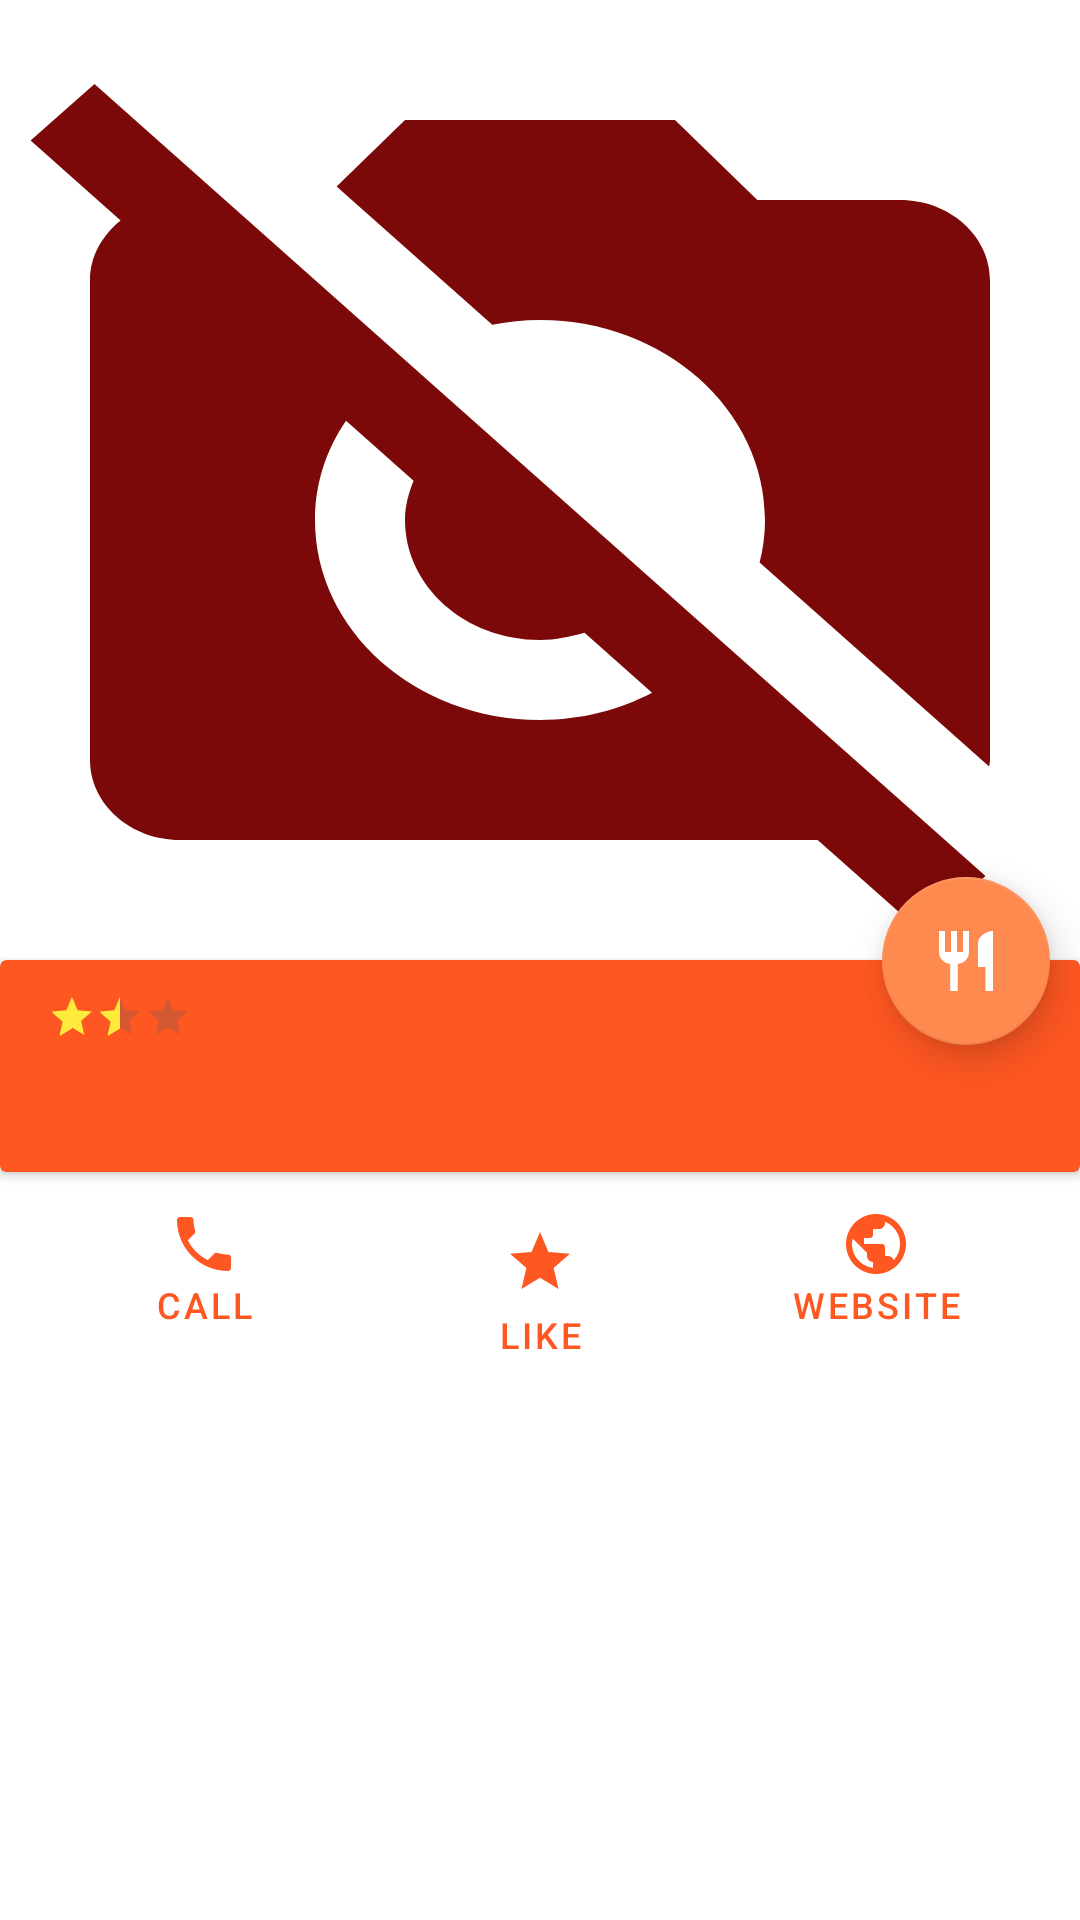

Where to tap for icons on this 1080×1920 app screen, as (x=x, y=y):
restaurant: (x=966, y=961)
